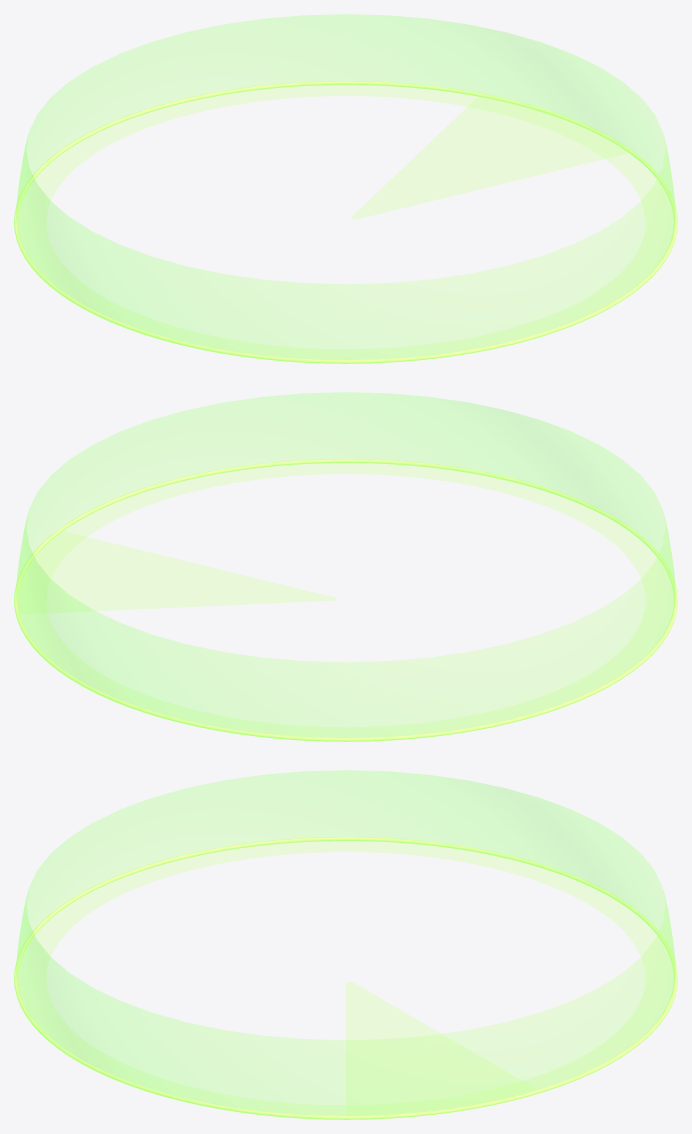
File: vfx_detector_pulse.glb
3 renders of one model, top to bottom at view 1: azimuth 30°, elevation 25°; view 2: azimuth 150°, elevation 25°; view 3: azimuth 270°, elevation 25°, orthographic.
Visible parts, largest first — view 1: pulse_dome, pulse_band, pulse_wedge, pulse_ring; view 2: pulse_dome, pulse_band, pulse_wedge, pulse_ring; view 3: pulse_dome, pulse_band, pulse_wedge, pulse_ring.
Boxes of the visible parts, left/top/right/bottom form: pulse_dome: left=16, top=14, right=675, bottom=359; pulse_band: left=18, top=84, right=673, bottom=359; pulse_wedge: left=351, top=96, right=629, bottom=219; pulse_ring: left=14, top=81, right=677, bottom=363; pulse_dome: left=16, top=392, right=675, bottom=737; pulse_band: left=20, top=462, right=673, bottom=737; pulse_wedge: left=18, top=531, right=336, bottom=613; pulse_ring: left=14, top=459, right=677, bottom=741; pulse_dome: left=16, top=770, right=675, bottom=1115; pulse_band: left=18, top=840, right=673, bottom=1115; pulse_wedge: left=346, top=982, right=536, bottom=1115; pulse_ring: left=14, top=837, right=677, bottom=1119.
Size of the model in its own units: 26.16 by 3.26 by 26.16.
